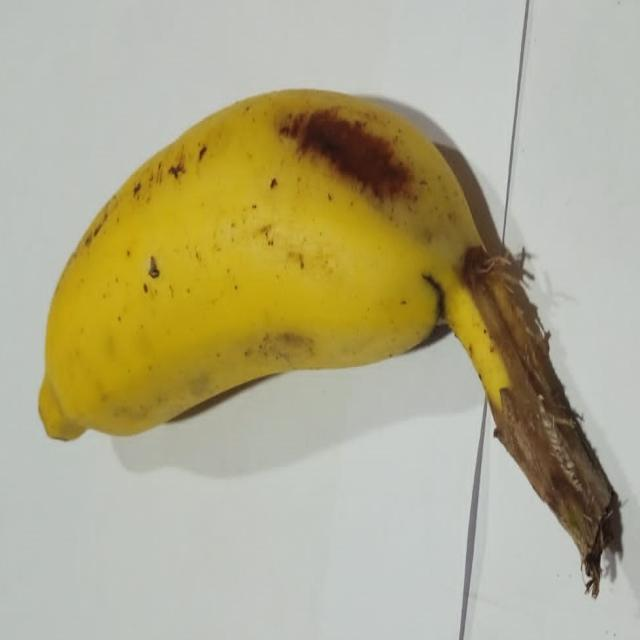banana: (40, 91, 615, 593)
